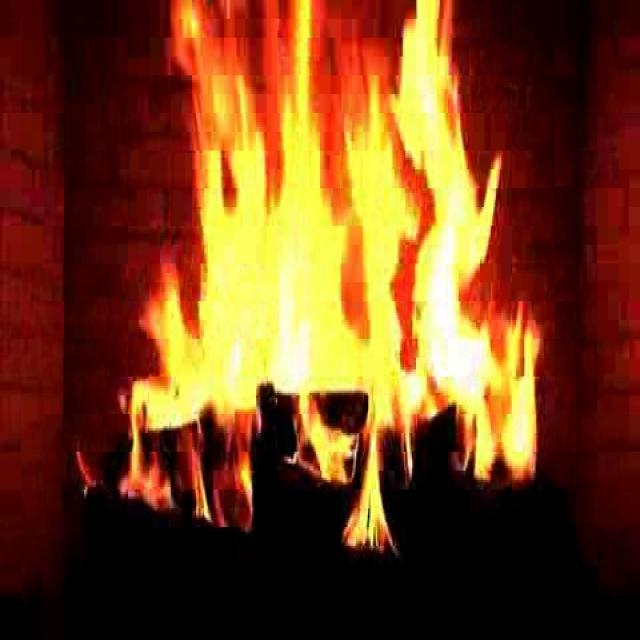fire: (128, 15, 512, 522)
